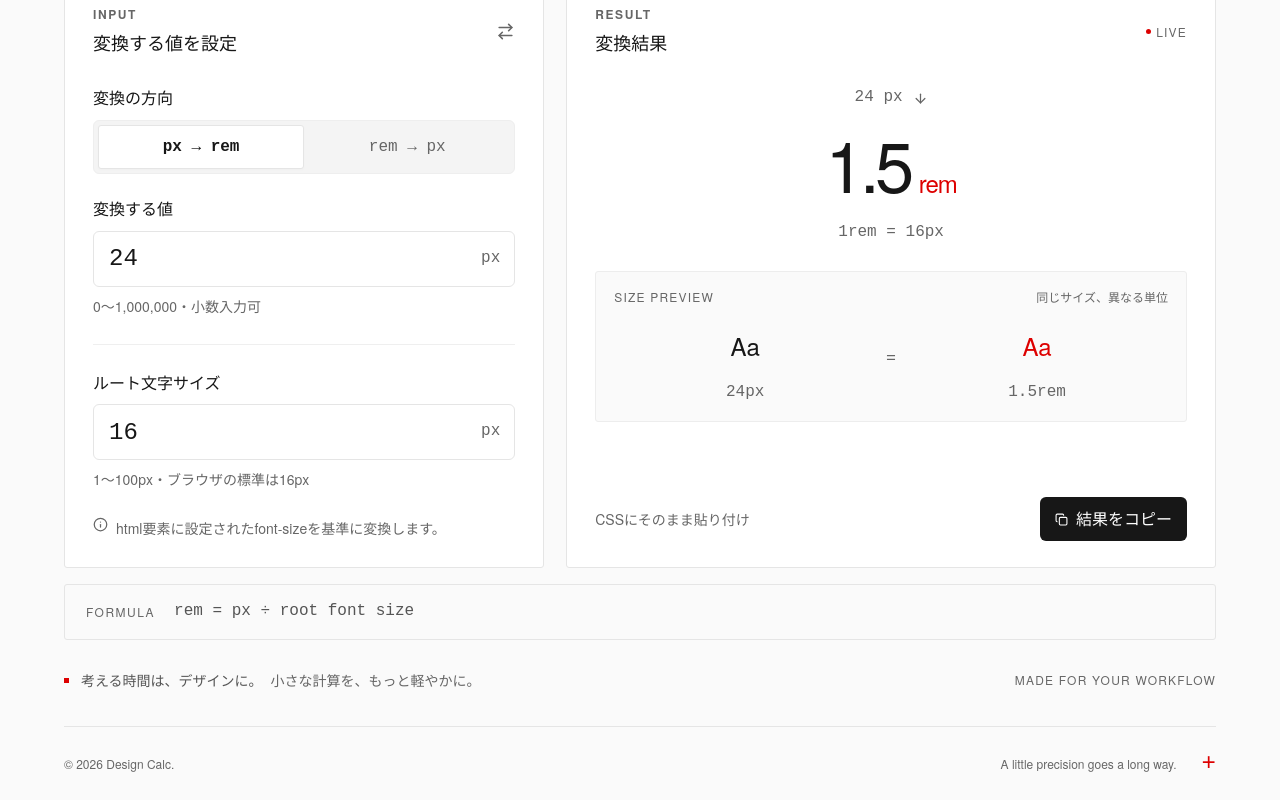
Scenario: calculator workflows › copies values and announces success
(page scrolled)
Click the button "結果をコピー".
click(1114, 519)  # box [1040,497,1187,541]
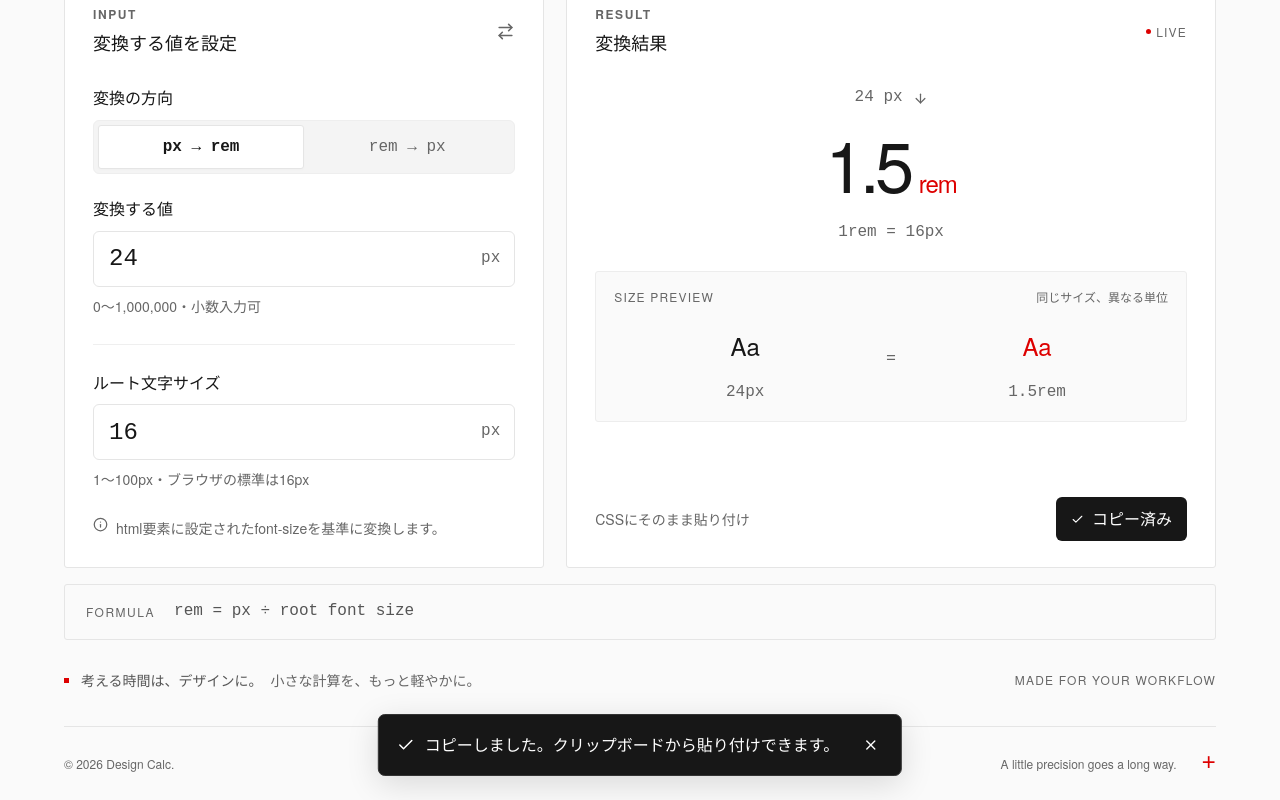
Expected: the text "コピーしました。クリップボードから貼り付けできます。" is shown, [425,731,839,759]
